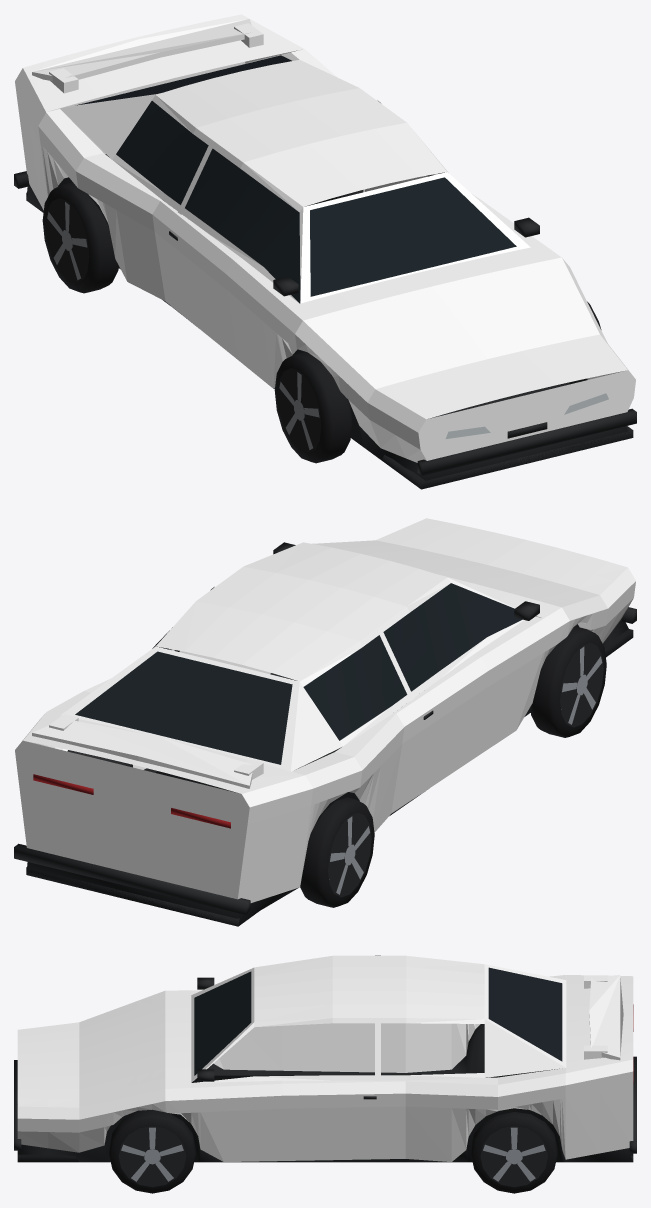
File: bancroft_centelha.glb
3 views of the same model, one above another, from view 1: azimuth 30°, elevation 25°; view 2: azimuth 150°, elevation 25°; view 3: azimuth 270°, elevation 25° (orthographic). The views are drawn at different scales.
Parts seen in each view (by area): view 1: Body_Paint, Body_Details, Mount_FrontLeft_Wheel_Details, Mount_RearLeft_Wheel_Details; view 2: Body_Paint, Body_Details, Mount_RearLeft_Wheel_Details, Mount_FrontLeft_Wheel_Details; view 3: Body_Paint, Body_Details, Mount_FrontRight_Wheel_Details, Mount_RearRight_Wheel_Details.
Boxes of the visible parts, bbox=[...] form: Body_Paint: bbox=[15, 14, 635, 462]; Body_Details: bbox=[14, 55, 636, 489]; Mount_FrontLeft_Wheel_Details: bbox=[274, 352, 352, 463]; Mount_RearLeft_Wheel_Details: bbox=[42, 182, 118, 293]; Body_Paint: bbox=[15, 518, 635, 902]; Body_Details: bbox=[14, 542, 636, 926]; Mount_RearLeft_Wheel_Details: bbox=[300, 797, 374, 907]; Mount_FrontLeft_Wheel_Details: bbox=[530, 626, 606, 737]; Body_Paint: bbox=[17, 955, 633, 1161]; Body_Details: bbox=[14, 967, 636, 1162]; Mount_FrontRight_Wheel_Details: bbox=[109, 1109, 195, 1193]; Mount_RearRight_Wheel_Details: bbox=[471, 1112, 557, 1193].
Size of the model in its own units: 1.96 by 1.32 by 4.74.
Materials: 2 (1 with a texture image).
